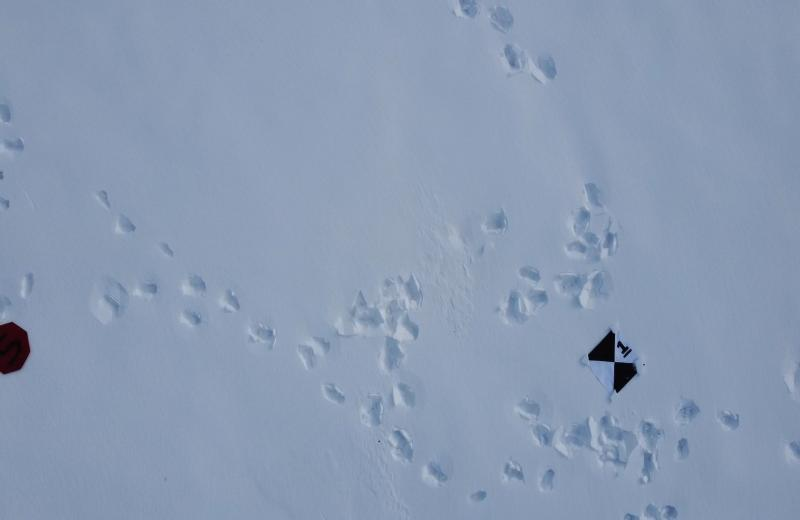Octagon: (0, 314, 31, 375)
